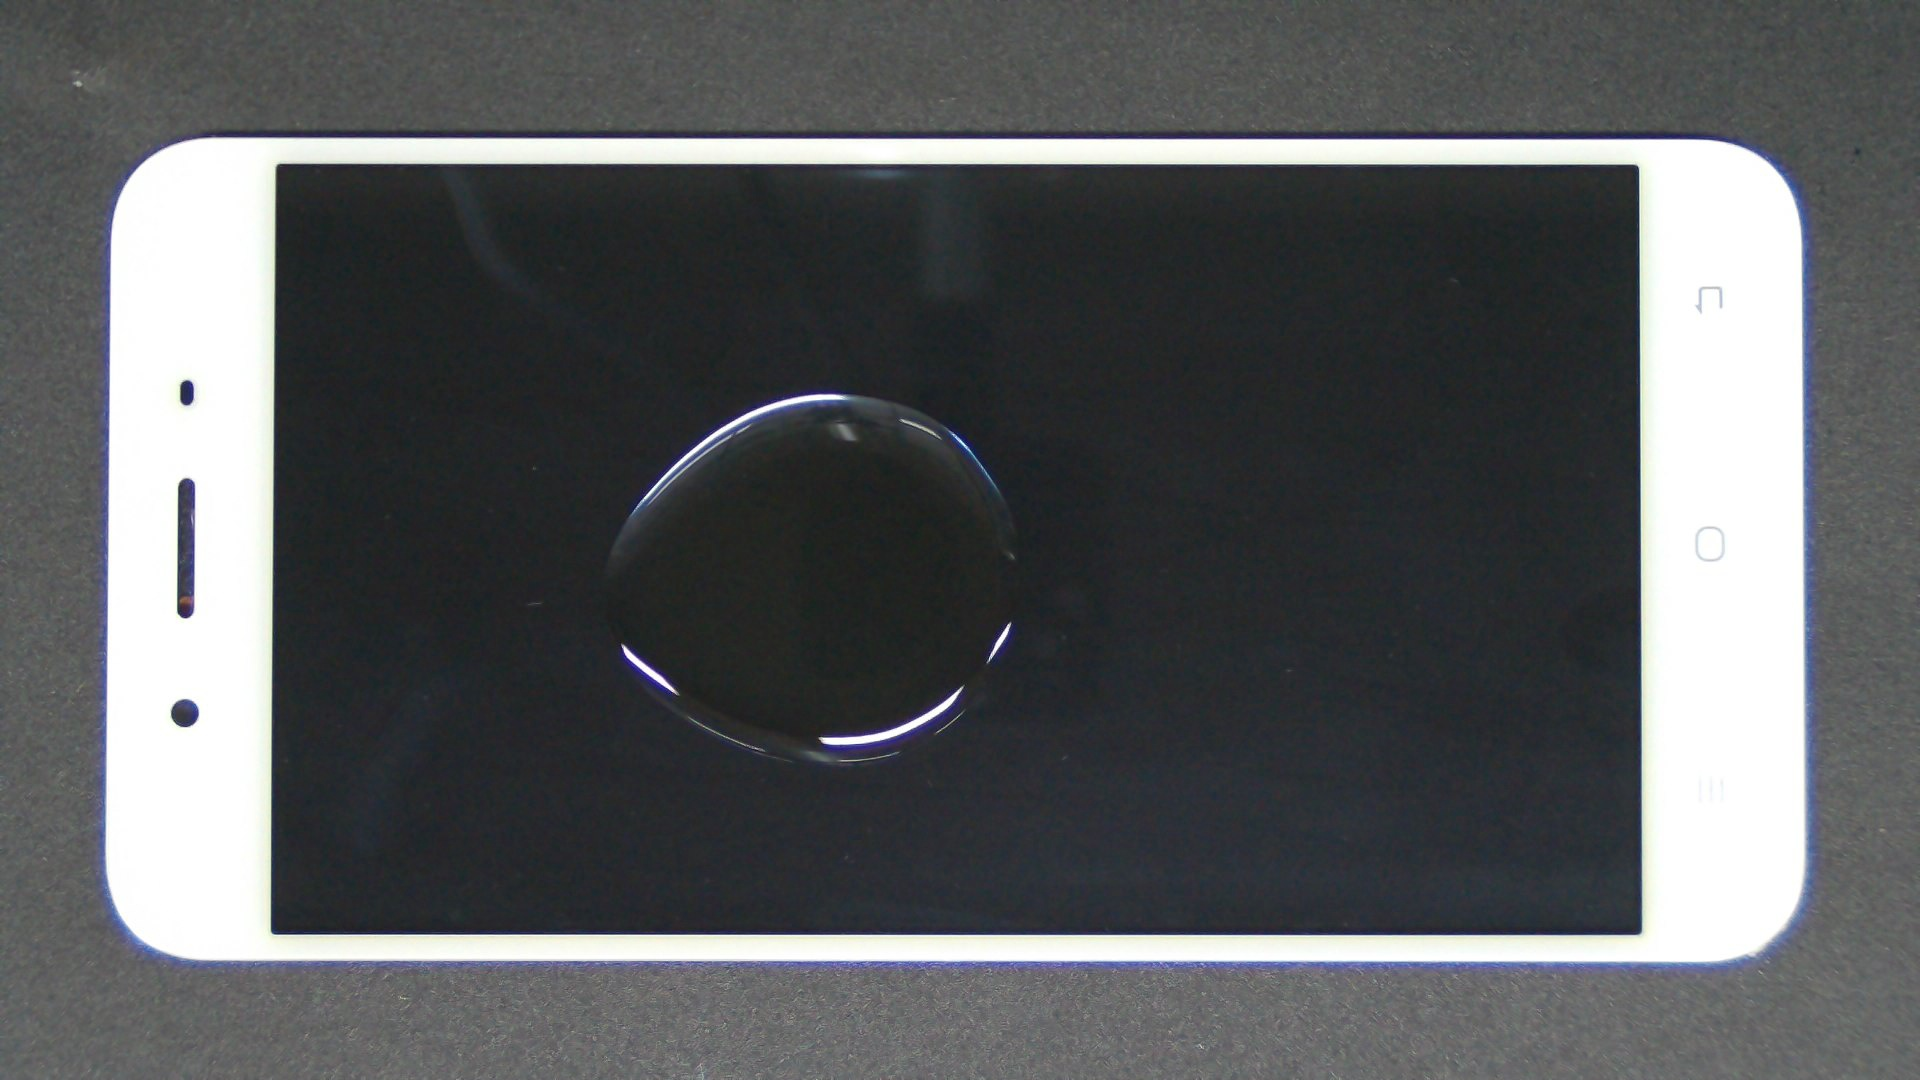oil: (418, 196, 1251, 589)
